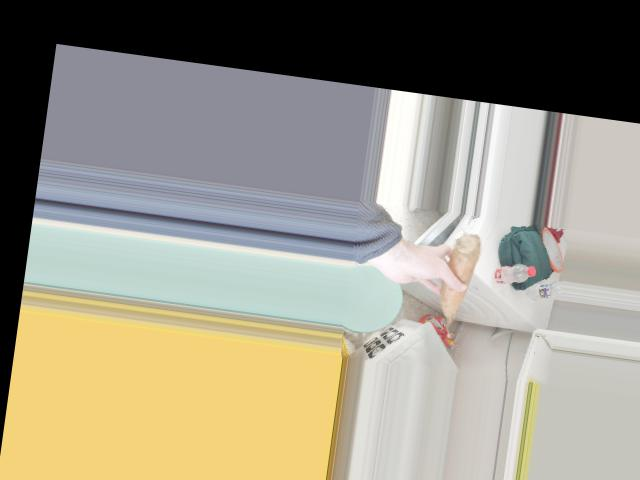sweet_potato: (439, 230, 475, 323)
